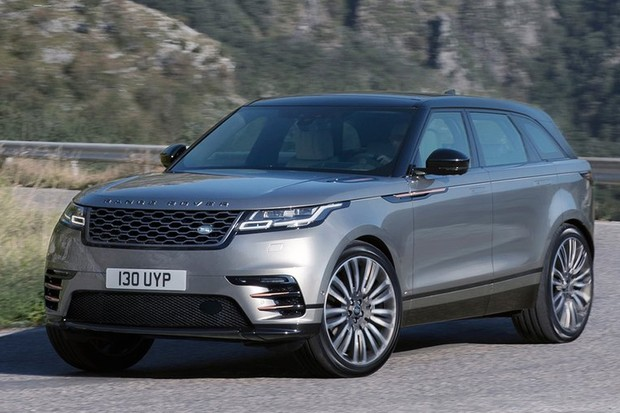Carro: (37, 90, 603, 380)
